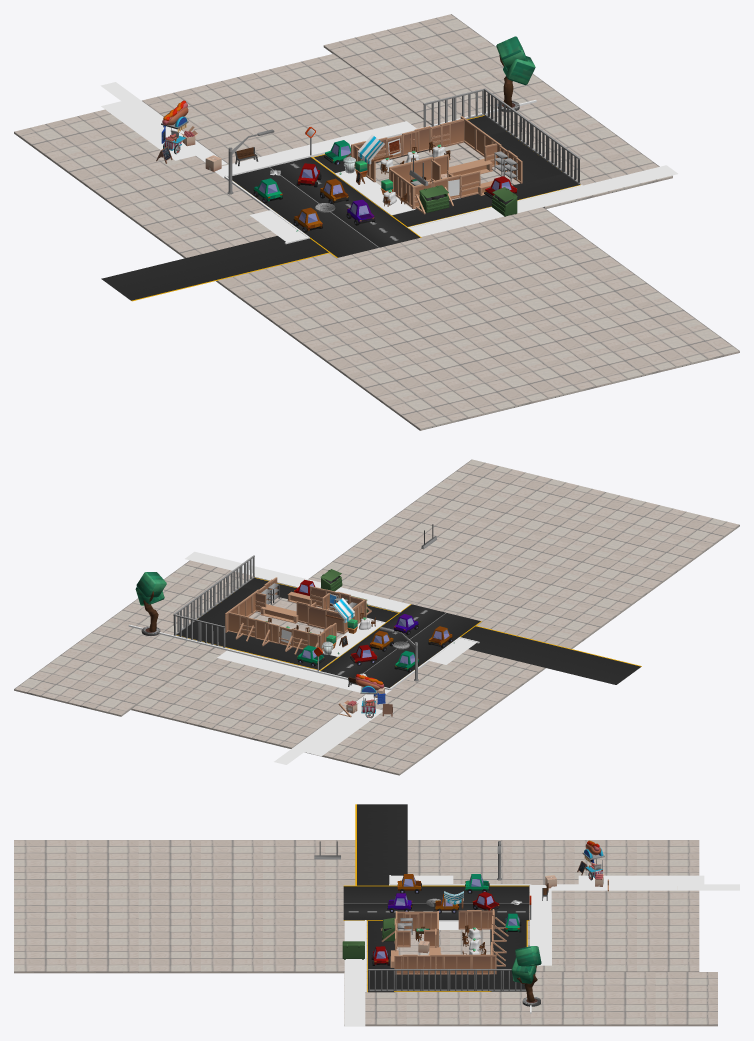
File: Tutorial Level _ 2_Cafe.fbx
3 views of the same model, one above another, from view 1: azimuth 30°, elevation 25°; view 2: azimuth 150°, elevation 25°; view 3: azimuth 270°, elevation 25° (orthographic). The views are drawn at different scales.
Visible parts, largest first — view 1: Floor, Floor.002, Plane.021, Plane.014, Cube.036, Plane.007, Plane.001, Plane.008, Plane.006, Plane.025, Plane.023, Cart Base (+4 smaller); view 2: Floor, Floor.002, Plane.021, Plane.014, Plane.009, Cube.036, Plane.001, Plane.023, Plane.025, Plane.006, Plane.008, Cart Base (+5 smaller); view 3: Floor, Floor.002, Plane.021, Plane.014, Cube.036, Plane.009, Plane.001, Plane.008, Plane.007, Plane.025, Plane.006, Plane.023 (+8 smaller).
Boxes of the visible parts, x1,y1,x2,y2 form: Floor: (14, 53, 739, 430); Floor.002: (323, 14, 672, 208); Plane.021: (228, 157, 421, 257); Plane.014: (101, 236, 329, 301); Cube.036: (483, 88, 580, 184); Plane.007: (392, 173, 580, 227); Plane.001: (473, 165, 677, 220); Plane.008: (489, 131, 563, 183); Plane.006: (101, 101, 195, 160); Plane.025: (100, 82, 227, 164); Plane.023: (278, 121, 416, 159); Cart Base: (161, 100, 188, 154); Floor: (131, 459, 739, 775); Floor.002: (14, 560, 286, 716); Plane.021: (319, 604, 481, 687); Plane.014: (461, 625, 641, 684); Plane.009: (176, 622, 336, 670); Cube.036: (173, 555, 254, 634); Plane.001: (185, 551, 356, 595); Plane.023: (217, 650, 334, 684); Plane.025: (274, 694, 377, 764); Plane.006: (304, 708, 382, 756); Plane.008: (194, 587, 255, 628); Cart Base: (355, 674, 385, 718); Floor: (14, 840, 699, 973); Floor.002: (344, 972, 717, 1026); Plane.021: (343, 885, 529, 920); Plane.014: (355, 804, 407, 885); Cube.036: (368, 969, 526, 991); Plane.009: (490, 920, 527, 991); Plane.001: (344, 959, 365, 1026); Plane.008: (394, 974, 491, 991); Plane.007: (367, 921, 394, 992); Plane.025: (551, 884, 739, 890); Plane.006: (578, 875, 704, 884); Plane.023: (531, 912, 551, 965).
Size of the model in its own units: 62613 by 9990 by 86367.
